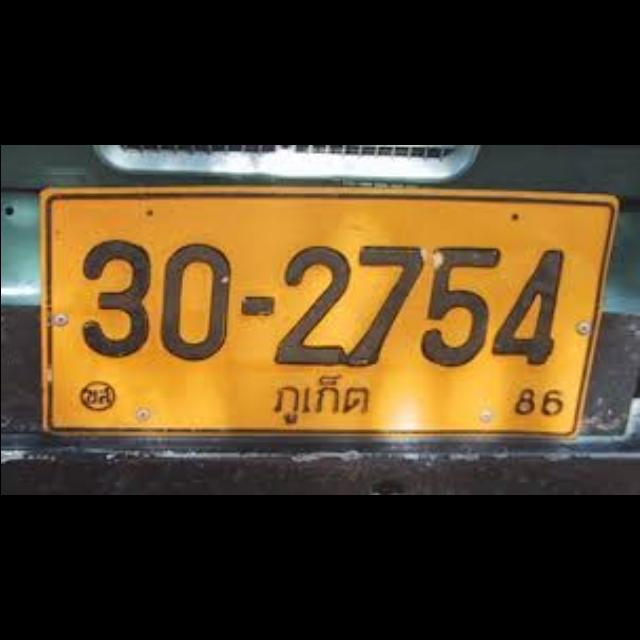licenseplate: (39, 188, 621, 440)
